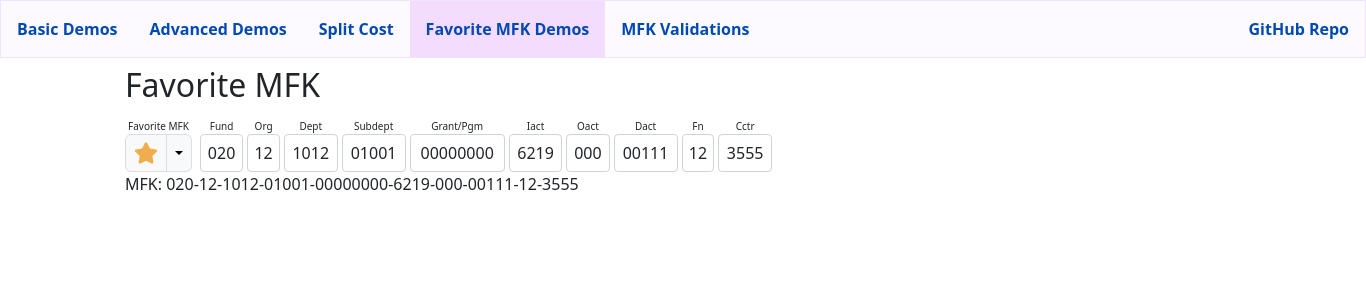
Favorite MFK Demos › should display active star when the input MFK is in favorite
This screenshot has width=1366, height=288.
Expected: the element showing "020-12-1012-01001-00000000-6219-000-00111-12-3555" is shown, [166, 173, 579, 195]
Click the button with class "dropdown-toggle" at (179, 153), box [166, 134, 192, 172]
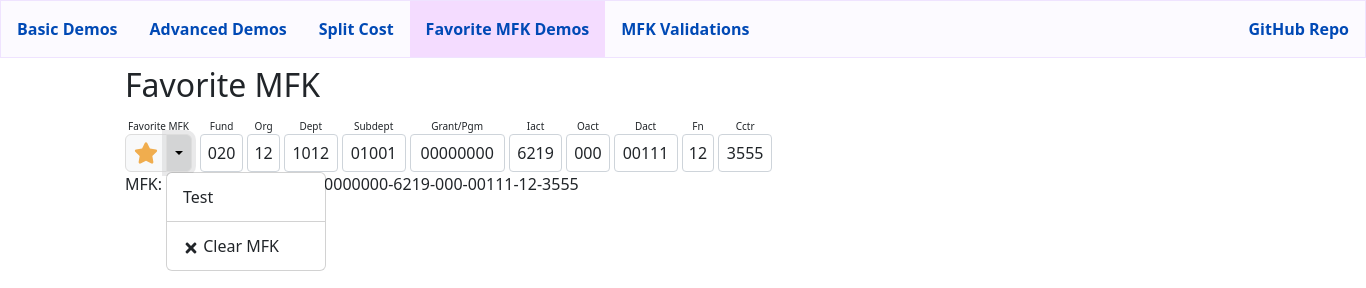
Click the list item "Clear MFK" at (231, 246), box [183, 235, 279, 257]
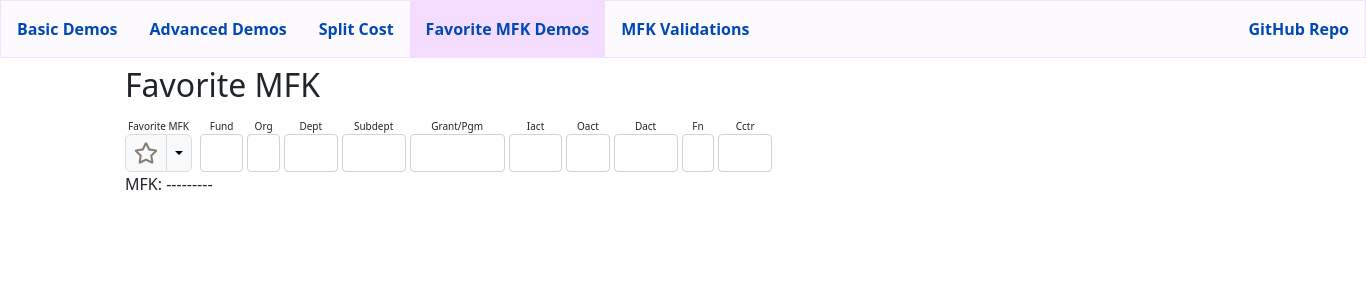
Now the element showing "---------" is shown, box [166, 173, 213, 195]
